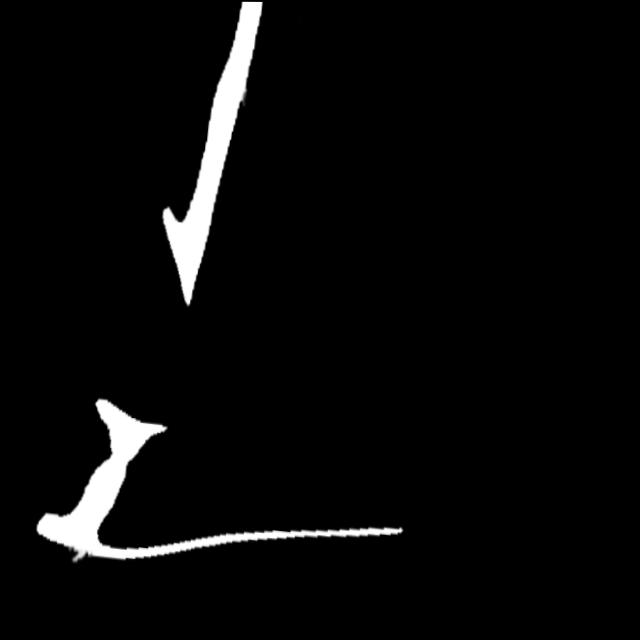sup_pli: (63, 543, 92, 570)
